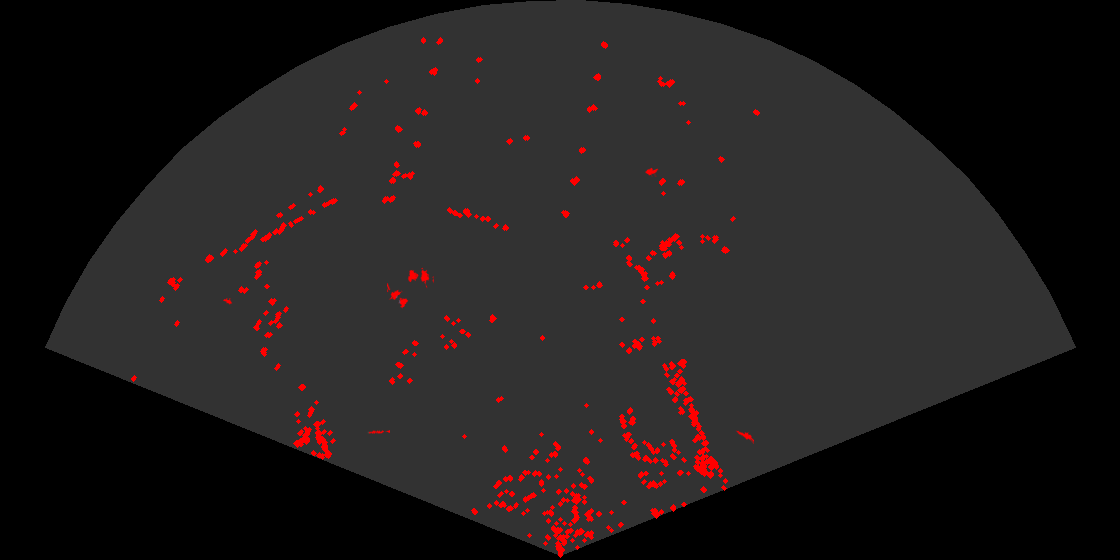AUV: (644, 166, 659, 177), (222, 298, 234, 306)
cage: (406, 266, 434, 289), (387, 283, 410, 310)
chain: (367, 429, 390, 435)
frogman: (735, 429, 754, 444)
